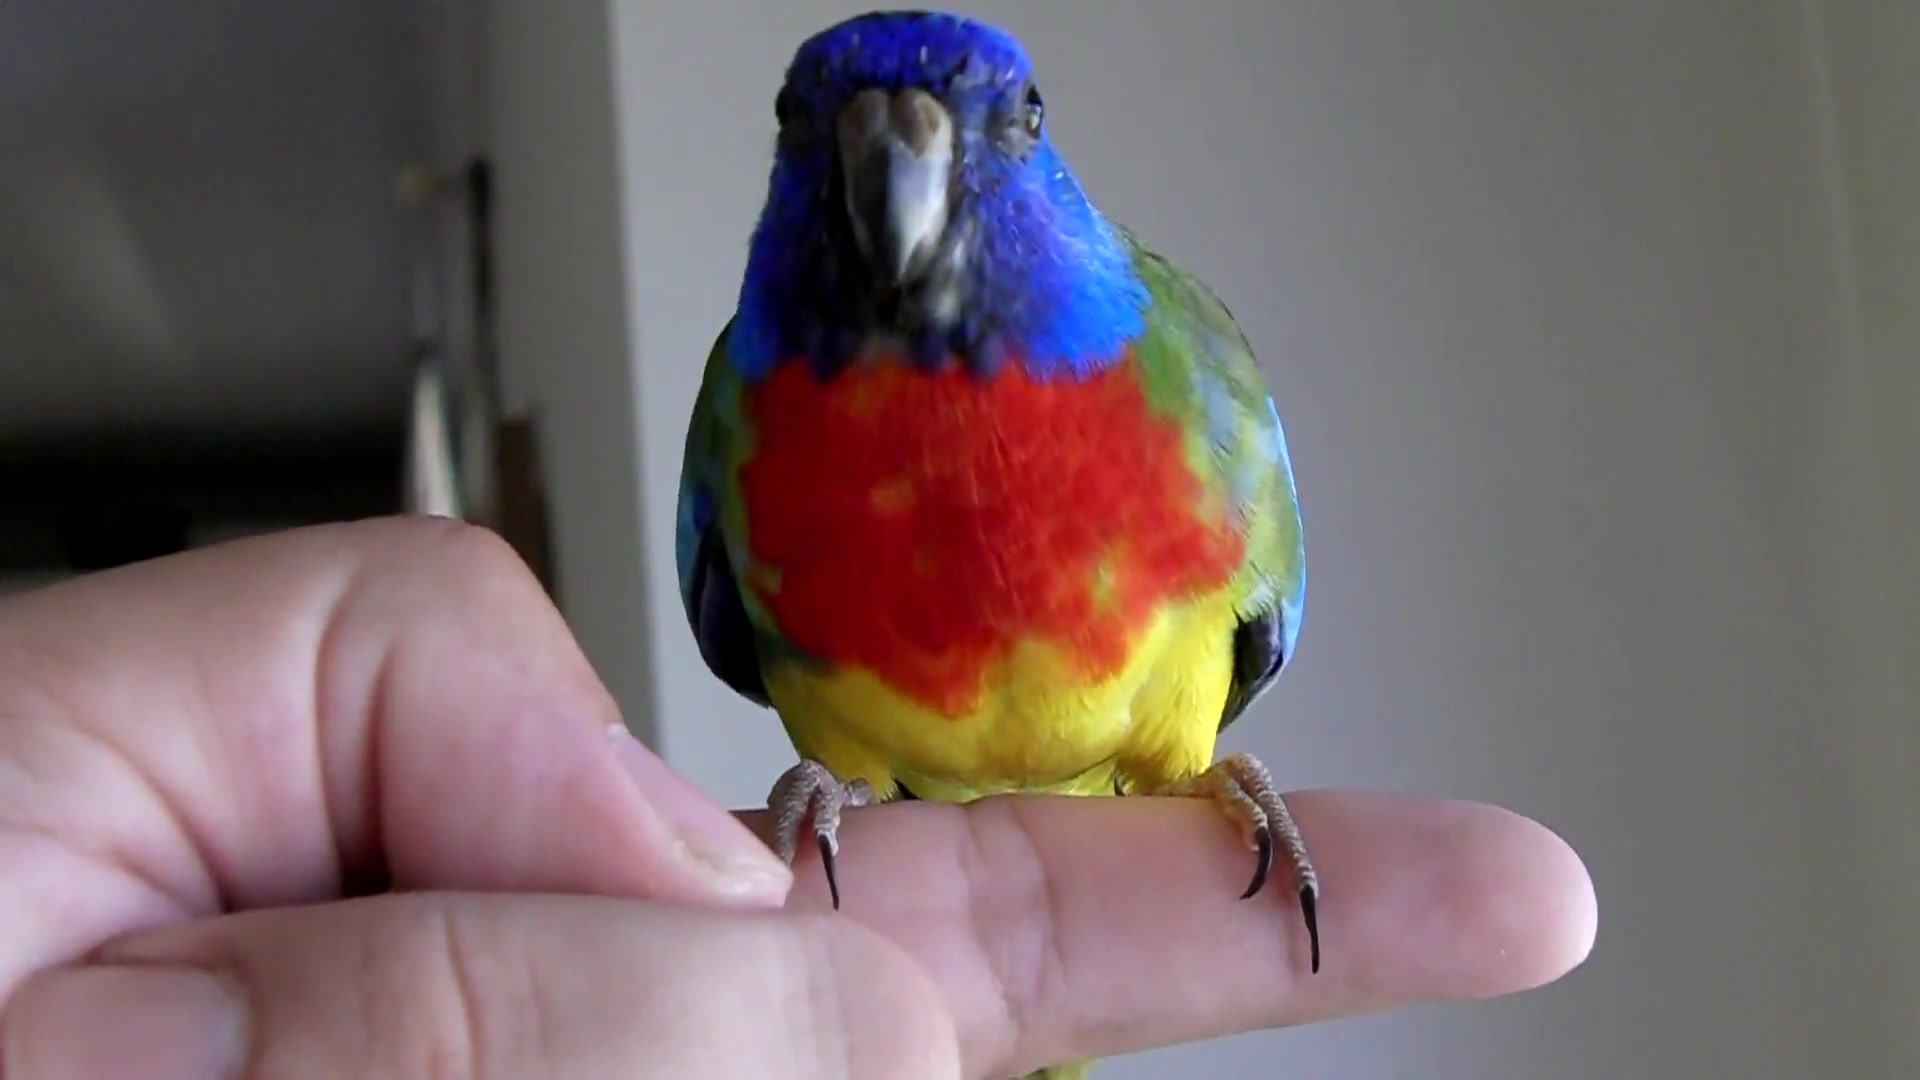bird: (673, 8, 1325, 978)
